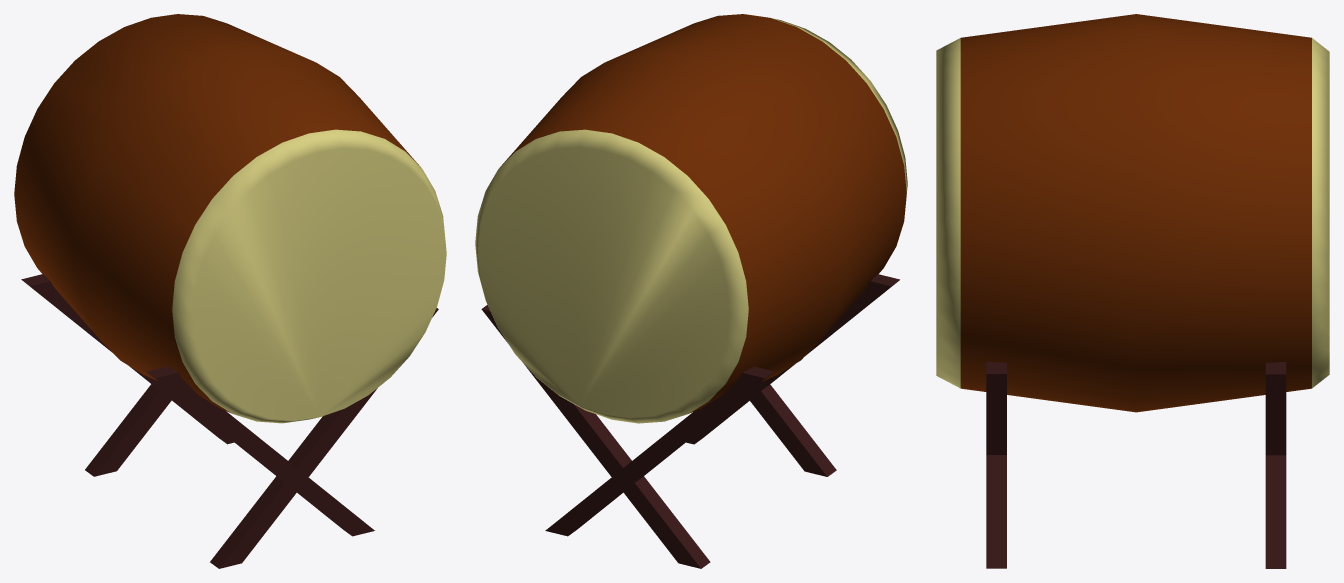
The model's file is drum.fbx.
The picture shows the model from 3 angles, left to right: view 1: azimuth 30°, elevation 25°; view 2: azimuth 150°, elevation 25°; view 3: azimuth 270°, elevation 25°; orthographic projection. The views are drawn at different scales.
Parts seen in each view (by area): view 1: drum; view 2: drum; view 3: drum.
Part boxes in pixels (x1,y1,x2,y2): drum: (14, 14, 446, 568); drum: (475, 14, 907, 568); drum: (936, 14, 1329, 568).
Bounding box in the file's own units: 342 × 468 × 338.
